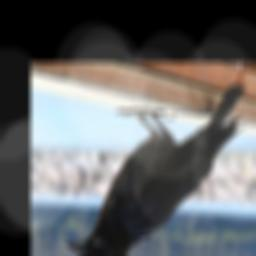Crow: (64, 83, 248, 256)
